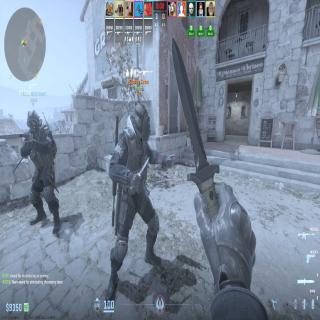CT-Body: (110, 103, 161, 282), (24, 108, 57, 235)
CT-Head: (133, 104, 151, 142), (26, 110, 40, 136)
